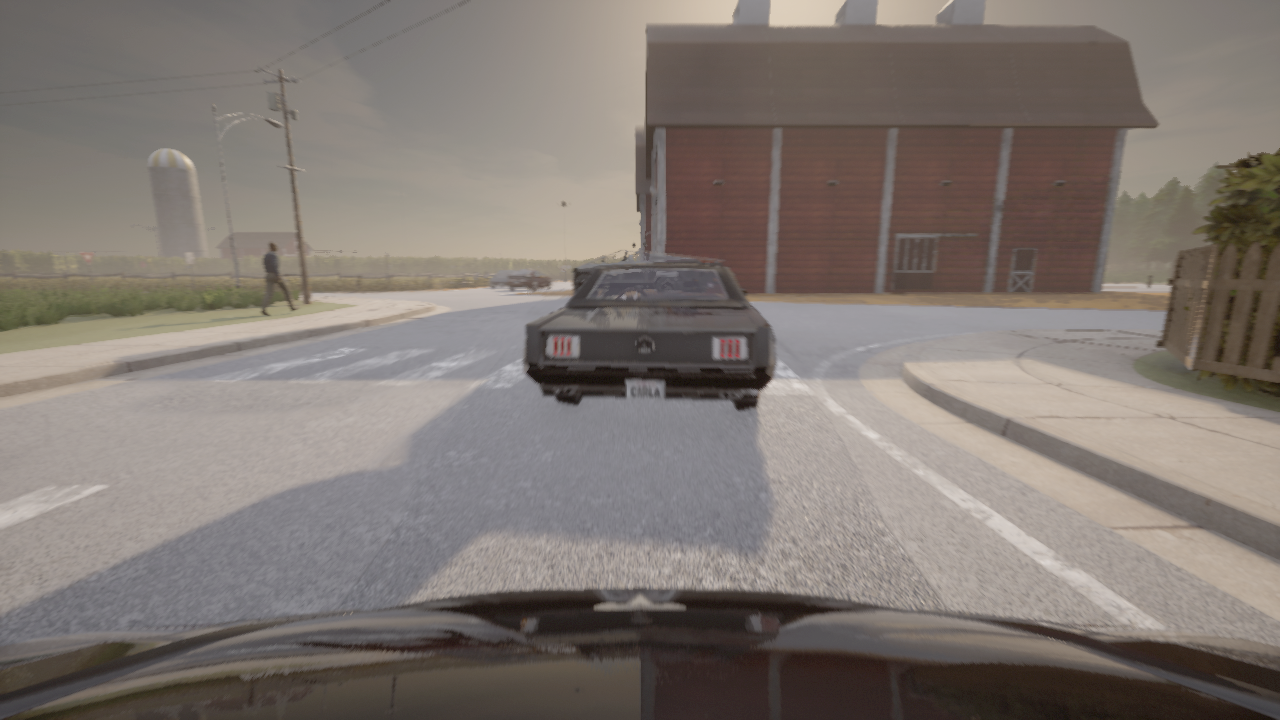cyclist: (0, 588, 1279, 719), (523, 264, 775, 409), (572, 249, 723, 292), (507, 269, 552, 290), (490, 270, 515, 287)
pedestrian: (260, 242, 299, 315)
